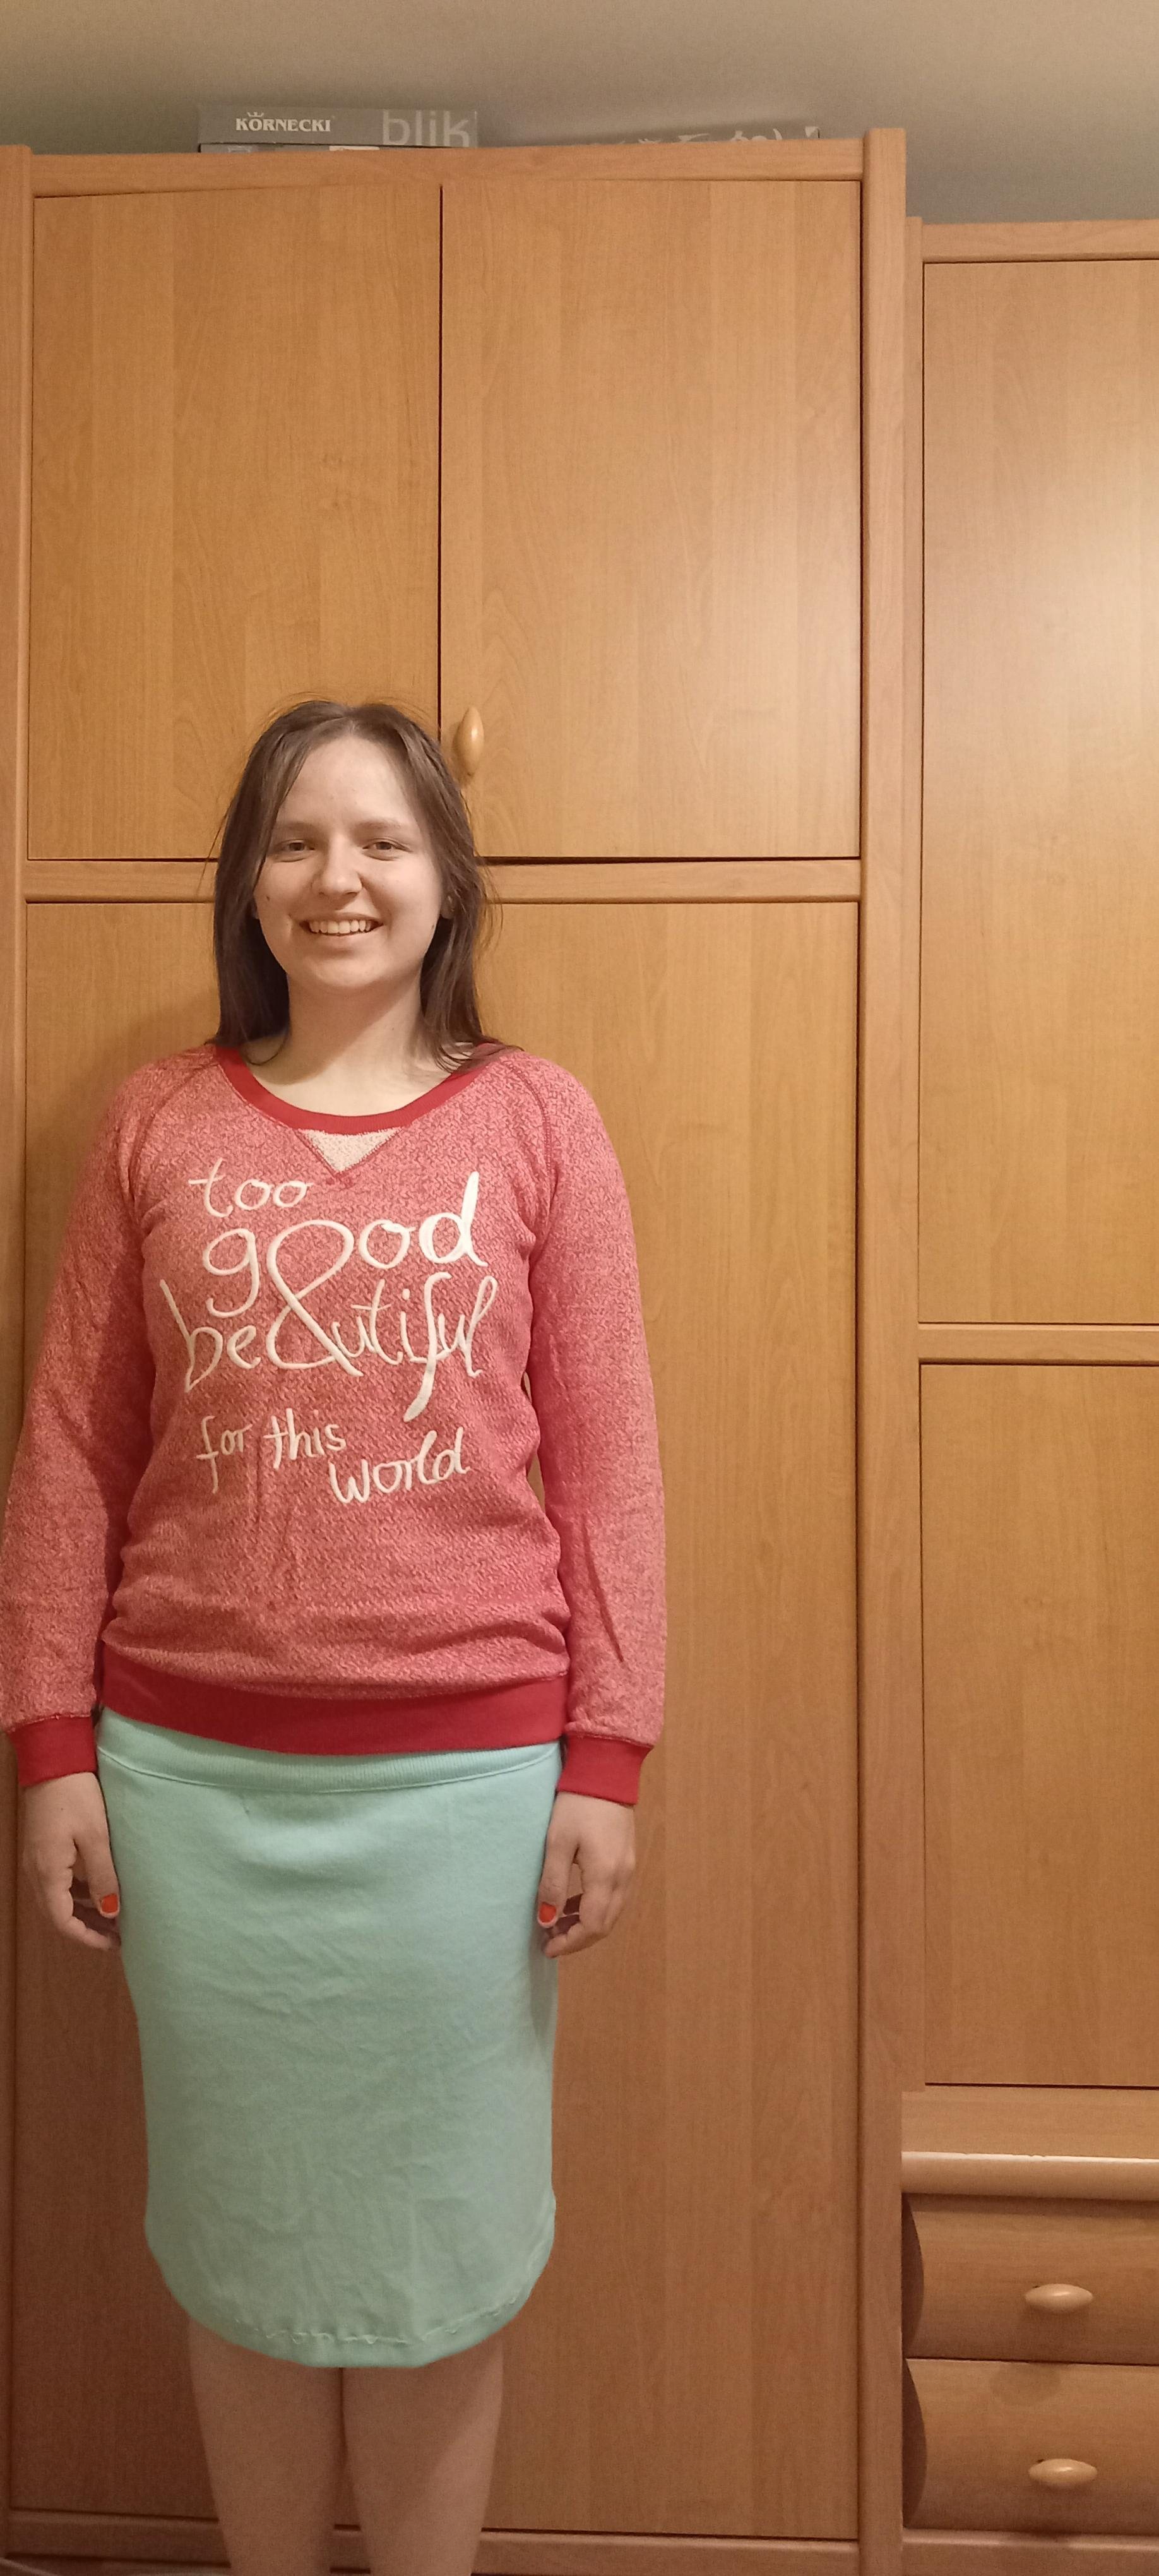skirt: (94, 1702, 566, 2371)
sweater: (0, 1045, 671, 1805)
